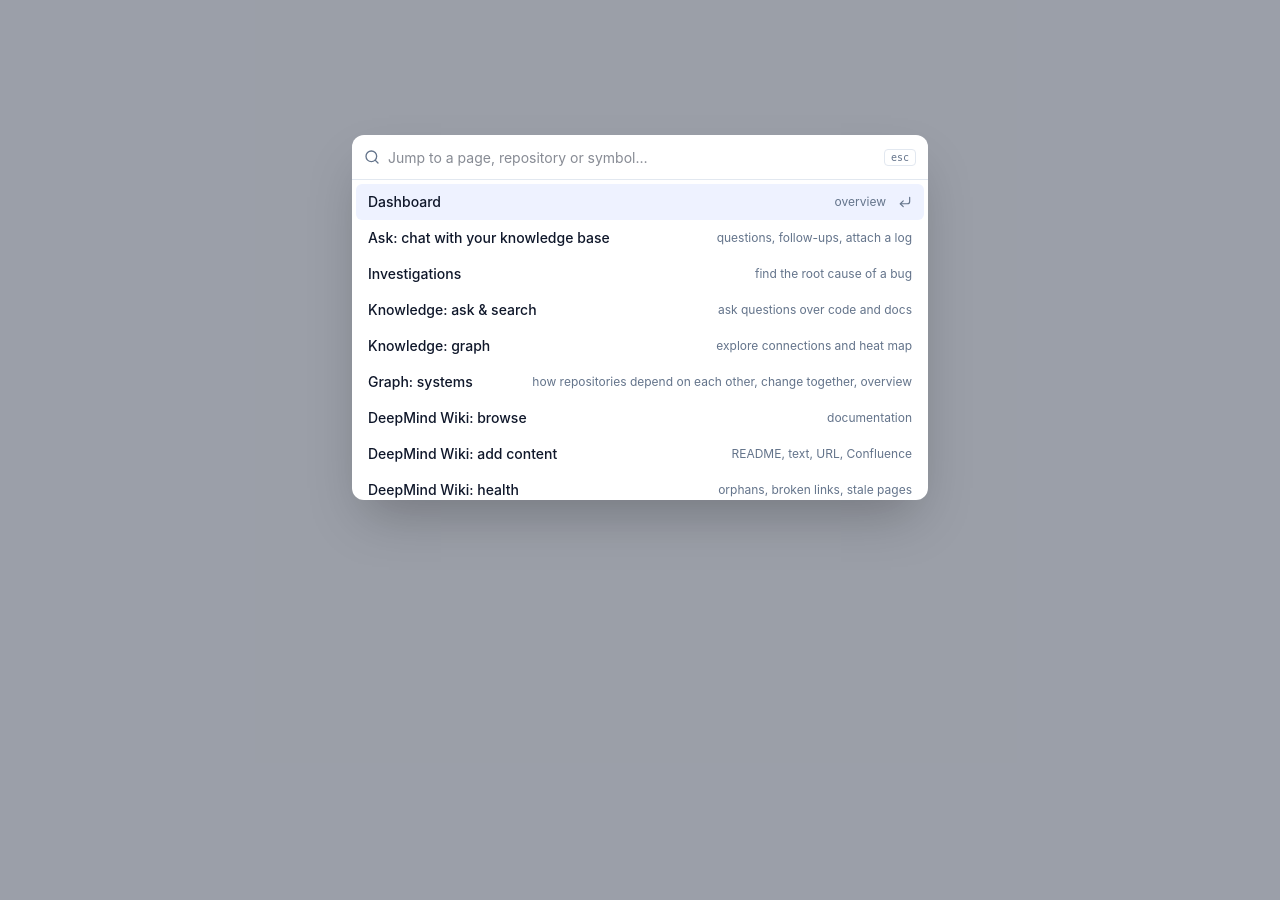
Test case: command palette › finds code symbols through the graph search
The width and height of the screenshot is (1280, 900).
Type "compute" into the field named "Search pages" at (632, 157), box left=388, top=135, right=876, bottom=179
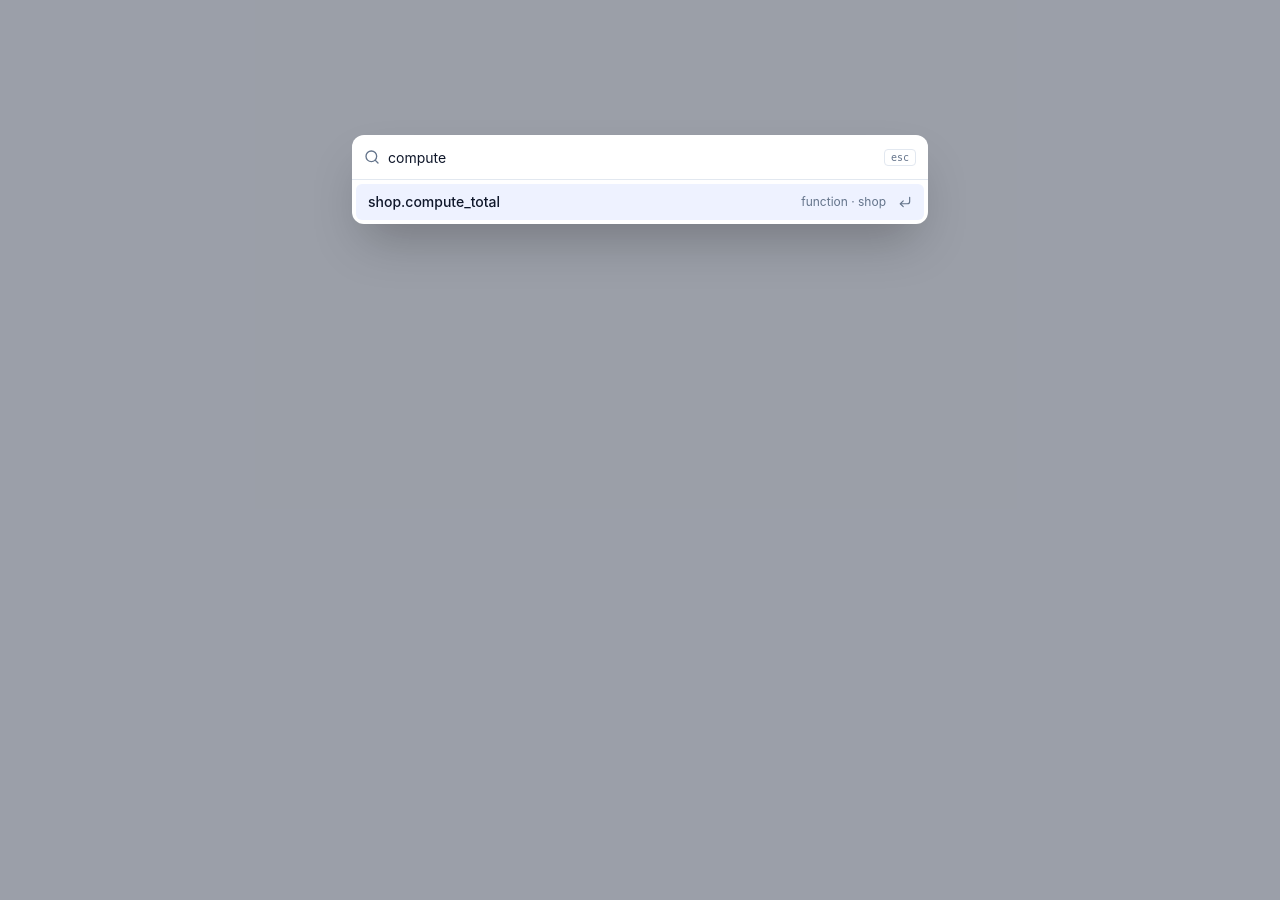
Check: the text "shop.compute_total" is shown, box left=368, top=192, right=500, bottom=212
